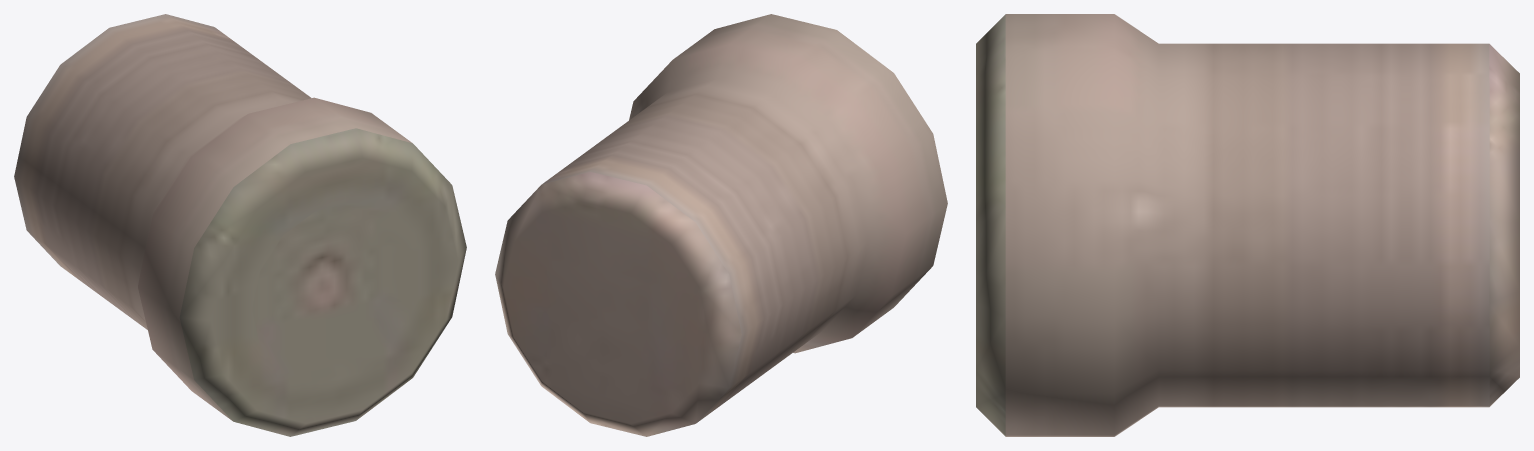
File: fuse_screw.glb
The picture shows the model from 3 angles, left to right: view 1: azimuth 30°, elevation 25°; view 2: azimuth 150°, elevation 25°; view 3: azimuth 270°, elevation 25°; orthographic projection. The views are drawn at different scales.
Parts seen in each view (by area): view 1: Fuse; view 2: Fuse; view 3: Fuse.
Boxes of the visible parts, box(x1,y1,x2,y2) form: Fuse: box(14, 14, 466, 436); Fuse: box(495, 14, 947, 436); Fuse: box(976, 14, 1519, 436).
Size of the model in its own units: 7.28 by 7.09 by 9.17.
1 material, 1 textured.
